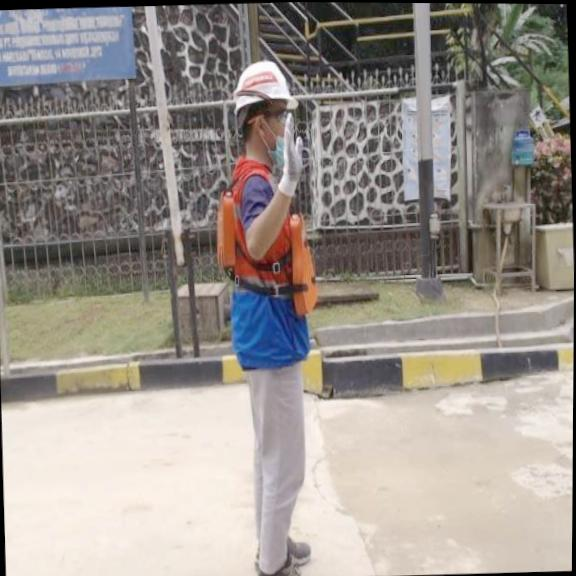safety_vest: (211, 182, 320, 319)
